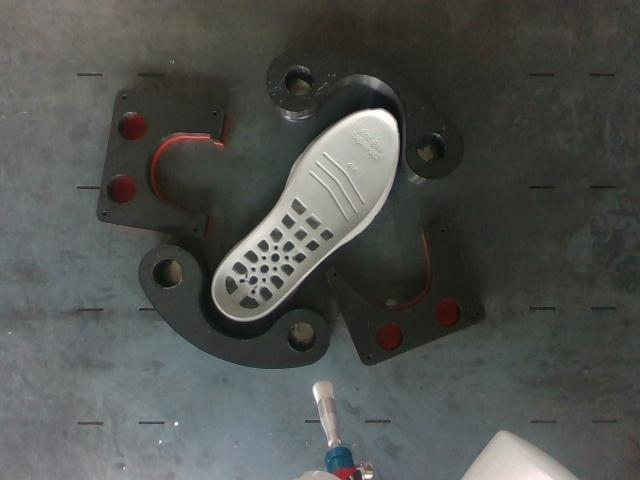shoes: (214, 110, 398, 318)
